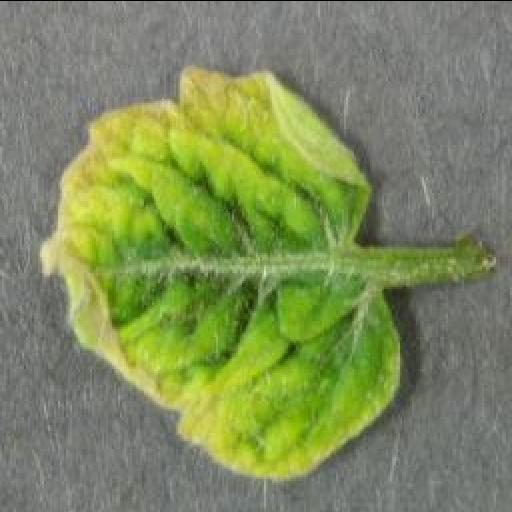disease_tomato: (38, 62, 404, 478)
